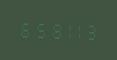eight: (44, 19, 56, 39)
five: (30, 19, 42, 39)
one: (57, 19, 69, 40), (70, 20, 82, 40)
six: (17, 18, 29, 38)
three: (83, 20, 95, 41)
